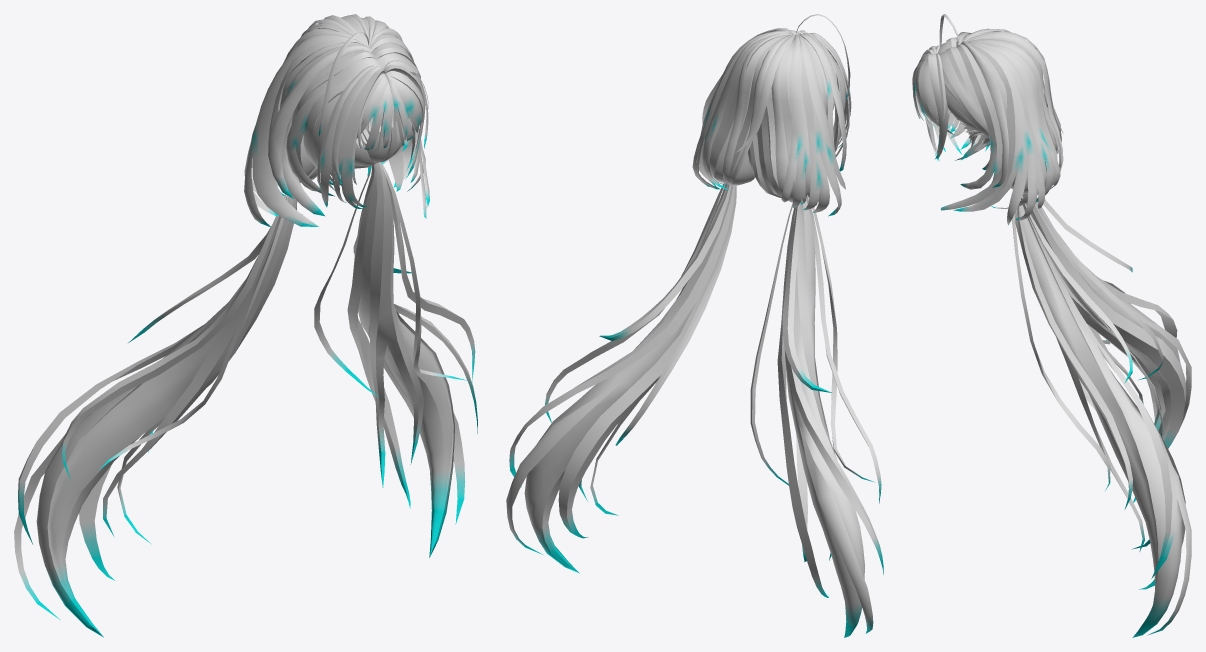
File: Hair3.fbx
3 renders of one model, left to right at view 1: azimuth 30°, elevation 25°; view 2: azimuth 150°, elevation 25°; view 3: azimuth 270°, elevation 25°, orthographic. The views are drawn at different scales.
Visible parts, largest first — view 1: Hair; view 2: Hair; view 3: Hair.
Boxes of the visible parts, x1,y1,x2,y2 form: Hair: (14,14,477,637); Hair: (506,14,883,637); Hair: (912,14,1191,637).
Size of the model in its own units: 74.31 by 101 by 46.9.
